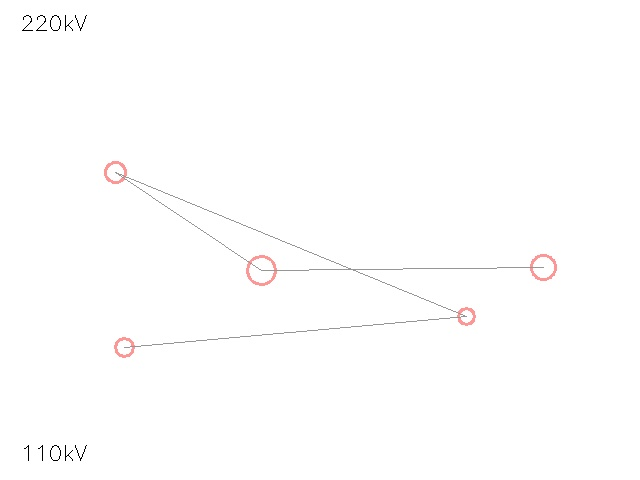current_transformer: (106, 329, 142, 365)
feeder_terminal: (518, 242, 568, 292)
reactor: (232, 241, 290, 299)
surge_arrester: (449, 299, 483, 333)
voltage_transformer: (94, 151, 136, 193)
